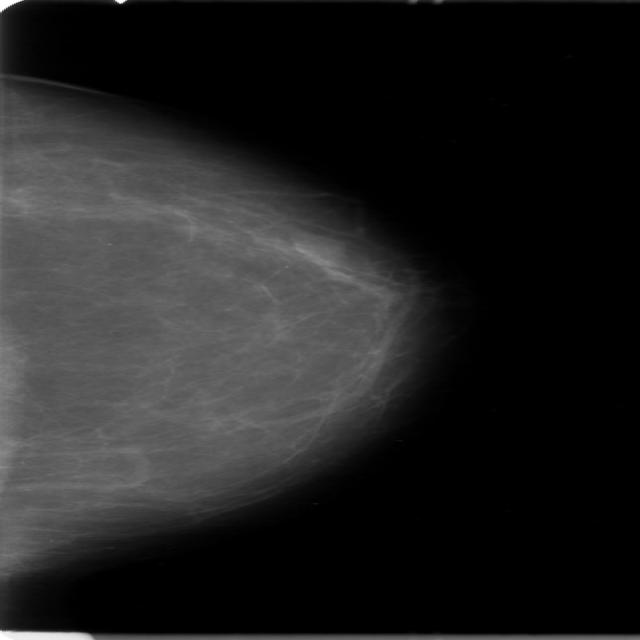tumour: (284, 228, 346, 264)
